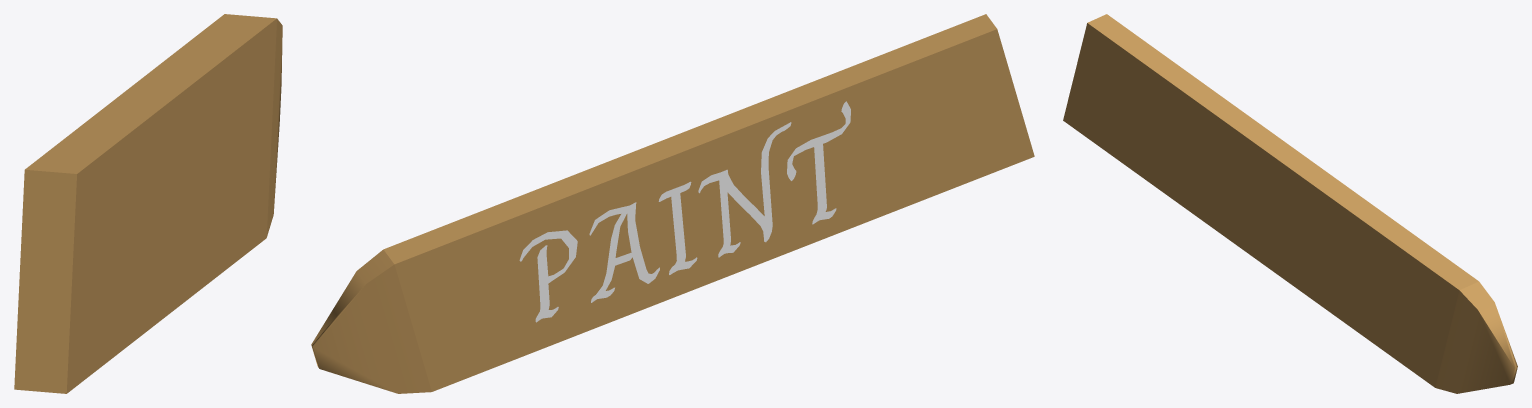
Rendered from PaintSign.glb.
3 views of the same model, side by side, from view 1: azimuth 30°, elevation 25°; view 2: azimuth 150°, elevation 25°; view 3: azimuth 270°, elevation 25° (orthographic). The views are drawn at different scales.
Visible parts, largest first — view 1: Cube.007; view 2: Cube.007; view 3: Cube.007.
Boxes of the visible parts, x1=… form: Cube.007: x1=14, y1=14, x2=282, y2=393; Cube.007: x1=311, y1=14, x2=1034, y2=393; Cube.007: x1=1063, y1=14, x2=1517, y2=393.
Bounding box in the file's own units: 1.73 × 1.06 × 1.89.
